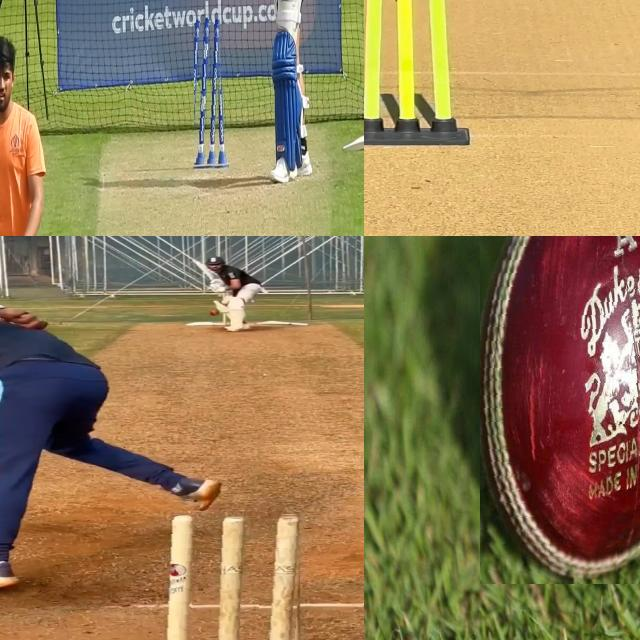Cricket ball: (479, 236, 640, 584), (209, 310, 220, 316)
Stumps: (164, 512, 303, 640), (364, 0, 469, 147), (194, 17, 226, 175)
